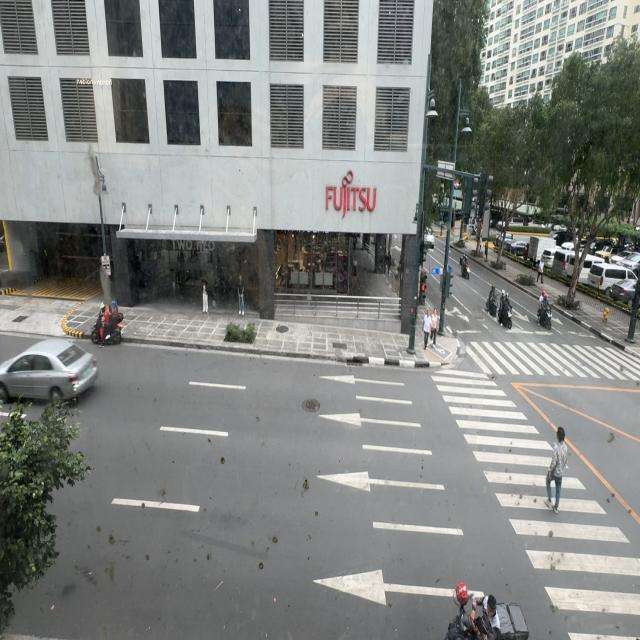crossing: (546, 427, 570, 514), (546, 422, 566, 516)
waiting: (422, 304, 432, 356), (430, 304, 439, 350), (422, 309, 432, 350), (430, 308, 438, 348)
